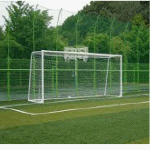goals: (26, 48, 125, 104)
